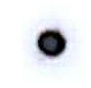cancer: (19, 12, 83, 79)
